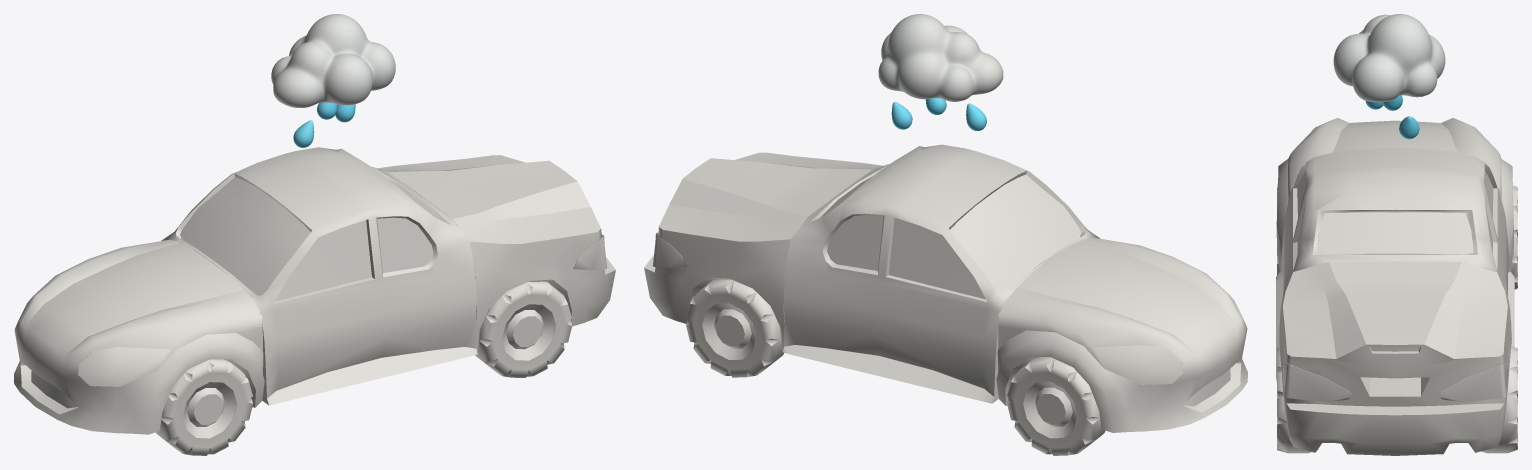
The model's file is asset7.glb.
3 renders of one model, left to right at view 1: azimuth 30°, elevation 25°; view 2: azimuth 150°, elevation 25°; view 3: azimuth 270°, elevation 25°, orthographic. The views are drawn at different scales.
Visible parts, largest first — view 1: node_id54, node_id40, node_id34, node_id73, node_id50, node_id62, node_id66, node_id52, node_id42, node_id60, node_id64, node_id38; view 2: node_id54, node_id40, node_id34, node_id73, node_id50, node_id58, node_id48, node_id52, node_id44, node_id56, node_id46, node_id36; view 3: node_id34, node_id54, node_id73, node_id40, node_id50, node_id38, node_id36, node_id58, node_id62, node_id48, node_id52.
Boxes of the visible parts, <box> form: node_id54: <box>161,147,477,405</box>; node_id40: <box>14,239,264,434</box>; node_id34: <box>377,155,615,352</box>; node_id73: <box>271,14,395,147</box>; node_id50: <box>180,177,439,295</box>; node_id62: <box>475,281,571,377</box>; node_id66: <box>156,359,252,455</box>; node_id52: <box>275,220,371,301</box>; node_id42: <box>78,347,170,386</box>; node_id60: <box>502,304,555,360</box>; node_id64: <box>183,382,236,438</box>; node_id38: <box>572,235,607,270</box>; node_id54: <box>783,144,1099,403</box>; node_id40: <box>996,237,1247,432</box>; node_id34: <box>644,152,882,350</box>; node_id73: <box>878,14,1003,130</box>; node_id50: <box>820,174,1081,293</box>; node_id58: <box>686,279,783,377</box>; node_id48: <box>1007,357,1105,455</box>; node_id52: <box>888,217,985,299</box>; node_id44: <box>1092,345,1183,384</box>; node_id56: <box>702,303,756,359</box>; node_id46: <box>1023,381,1077,438</box>; node_id36: <box>653,232,687,268</box>; node_id34: <box>1279,261,1511,455</box>; node_id54: <box>1276,147,1514,381</box>; node_id73: <box>1333,14,1445,139</box>; node_id40: <box>1276,118,1513,271</box>; node_id50: <box>1317,212,1473,253</box>; node_id38: <box>1283,362,1351,402</box>; node_id36: <box>1439,362,1507,402</box>; node_id58: <box>1481,346,1517,453</box>; node_id62: <box>1277,347,1318,453</box>; node_id48: <box>1511,185,1517,289</box>; node_id52: <box>1297,170,1493,217</box>.
Bounding box in the file's own units: 0.512 × 0.3192 × 0.192.
Materials: 18 (18 with a texture image).
